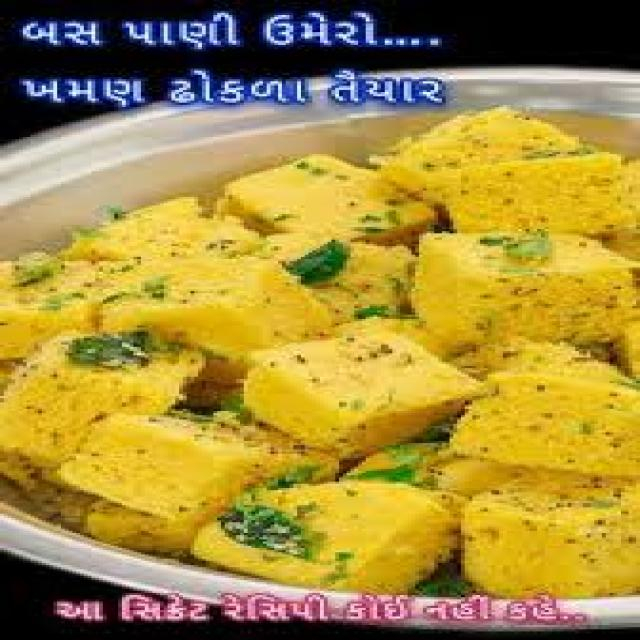DHOKLA: (0, 107, 636, 603)
